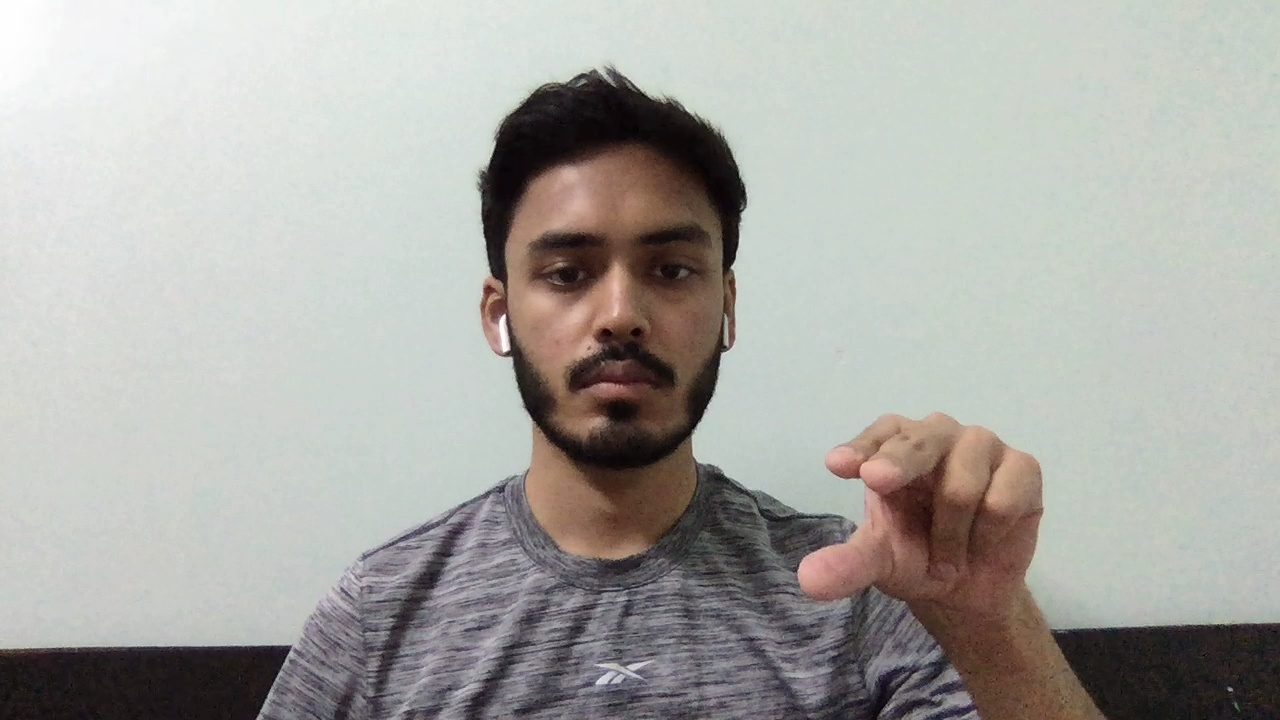No: (773, 404, 1062, 615)
